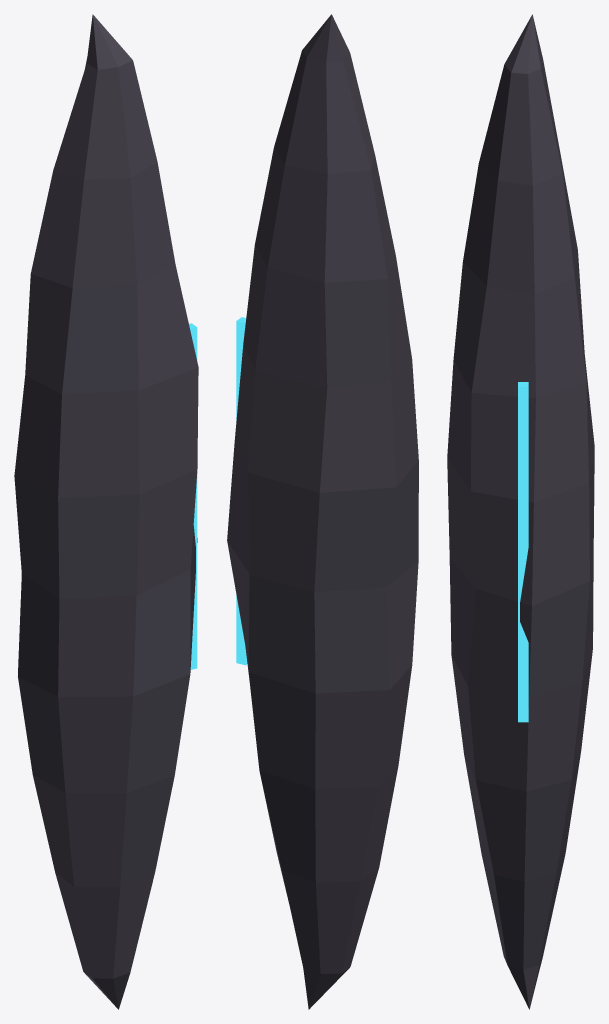
File: Debris_03_quest.glb
3 renders of one model, left to right at view 1: azimuth 30°, elevation 25°; view 2: azimuth 150°, elevation 25°; view 3: azimuth 270°, elevation 25°, orthographic.
Visible parts, largest first — view 1: Debris_03_Shard, Debris_03_Glow; view 2: Debris_03_Shard, Debris_03_Glow; view 3: Debris_03_Shard, Debris_03_Glow.
Boxes of the visible parts, box(x1,y1,x2,y2) form: Debris_03_Shard: box(14, 14, 198, 1009); Debris_03_Glow: box(189, 323, 197, 669); Debris_03_Shard: box(227, 14, 418, 1009); Debris_03_Glow: box(236, 317, 247, 665); Debris_03_Shard: box(447, 14, 594, 1009); Debris_03_Glow: box(518, 382, 528, 722).
Bounding box in the file's own units: 0.6471 × 3.52 × 0.4783.
